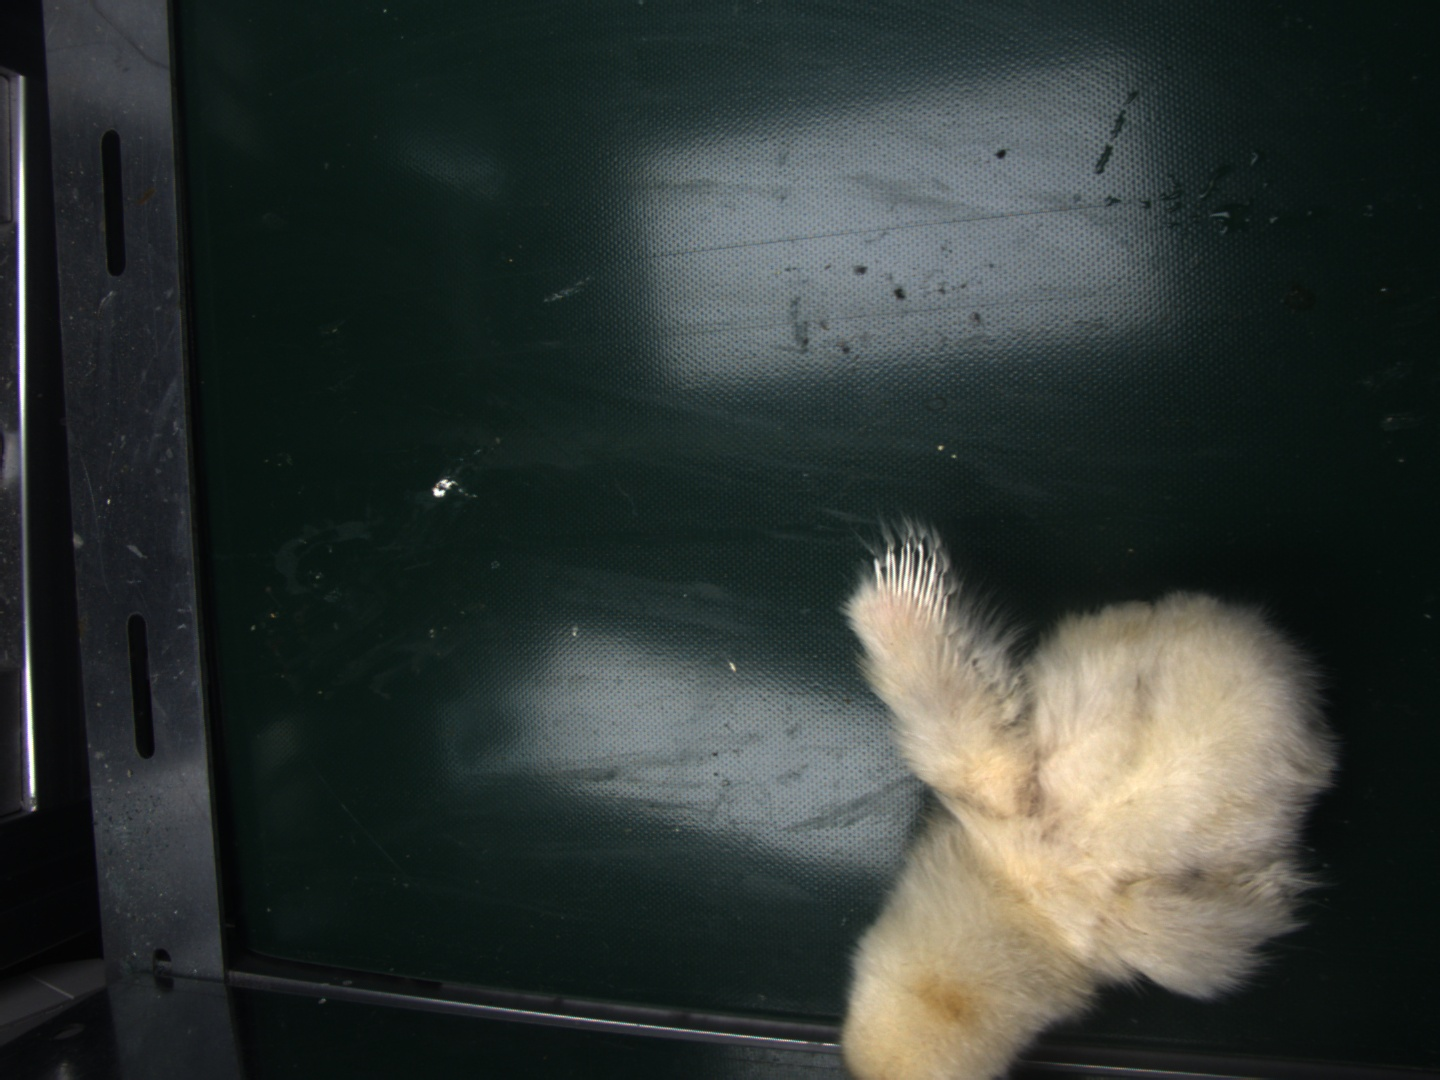male: (880, 539, 956, 616)
